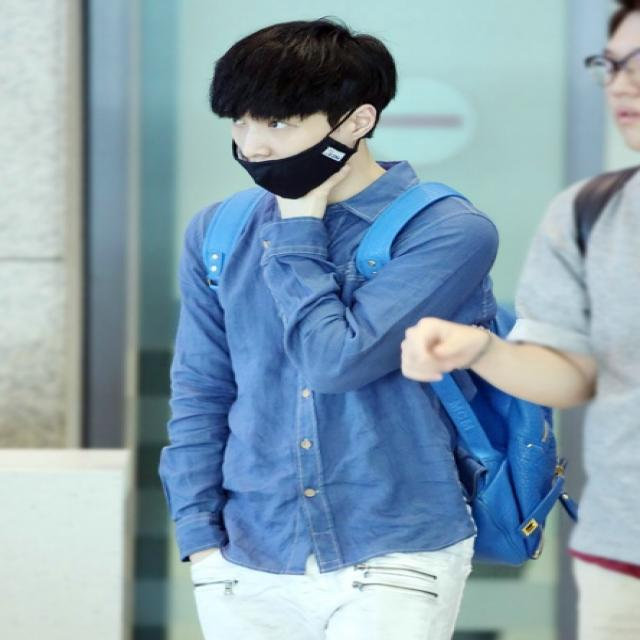mask: (227, 65, 338, 197)
nomask: (599, 16, 638, 148)
